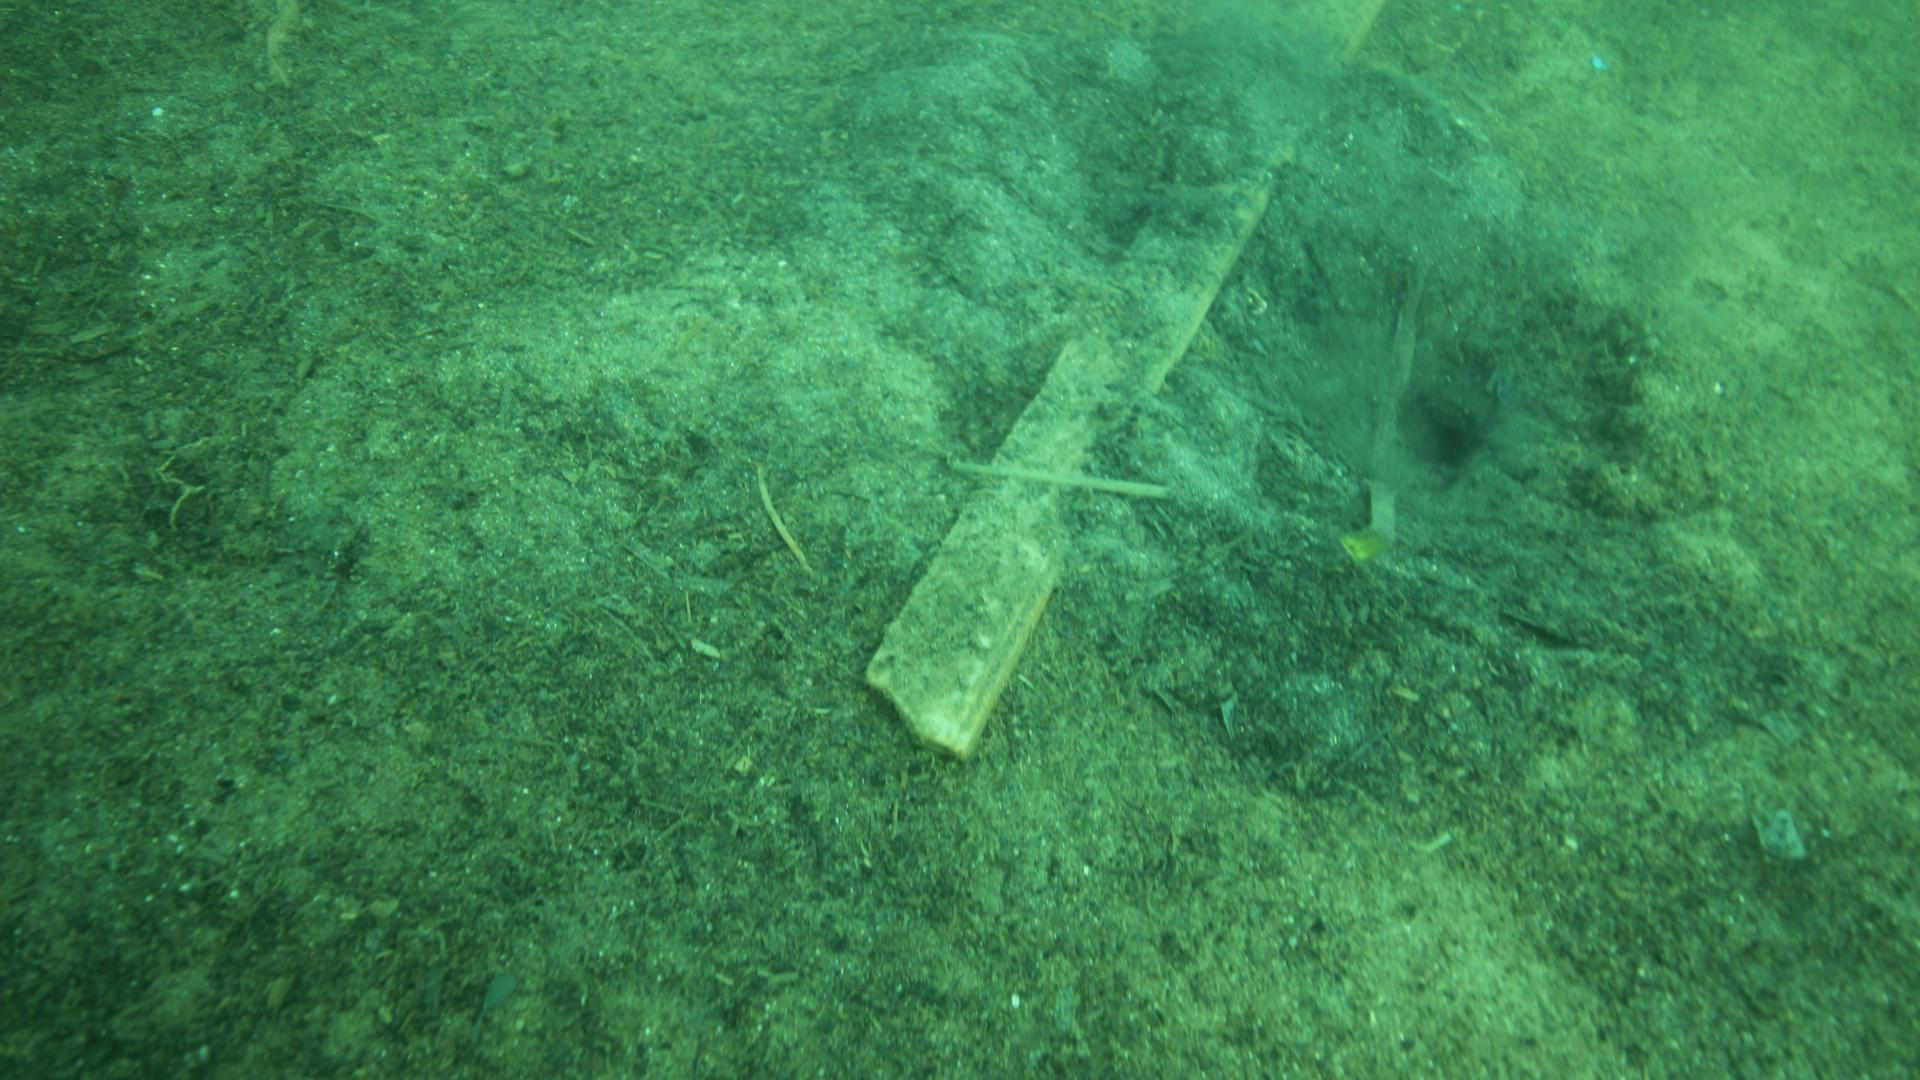wood: (865, 0, 1383, 765)
